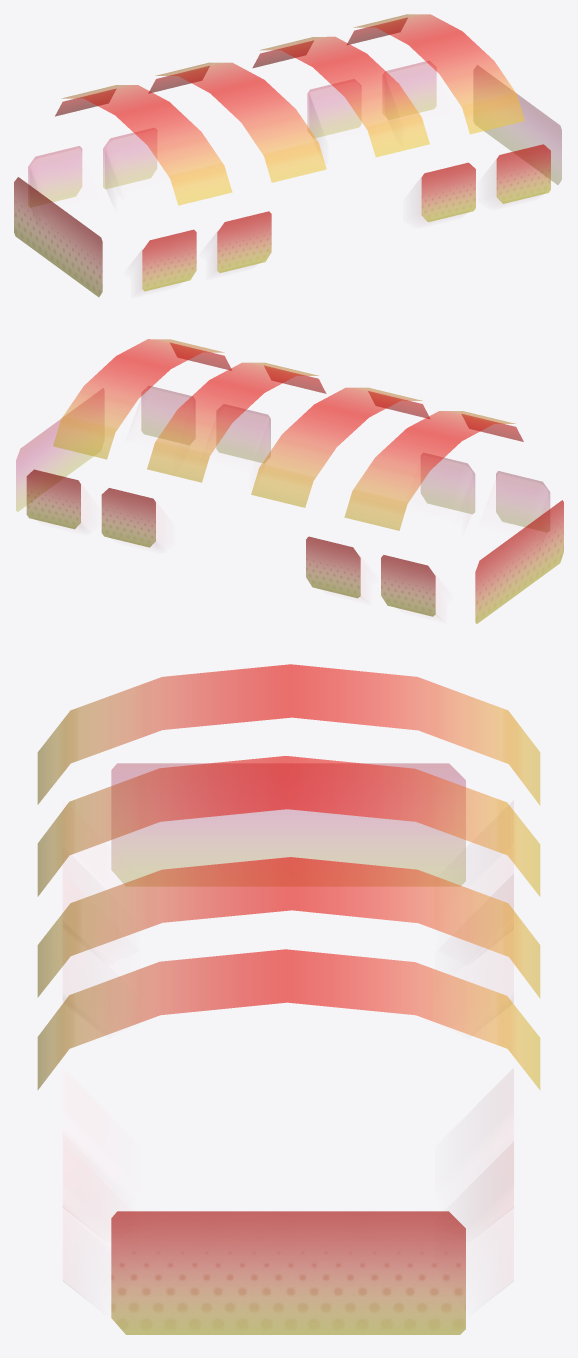
File: popart_tram_windows.glb
3 renders of one model, top to bottom at view 1: azimuth 30°, elevation 25°; view 2: azimuth 150°, elevation 25°; view 3: azimuth 270°, elevation 25°, orthographic. The views are drawn at different scales.
Visible parts, largest first — view 1: popart_tram_windows; view 2: popart_tram_windows; view 3: popart_tram_windows.
Boxes of the visible parts, box(x1,y1,x2,y2) form: popart_tram_windows: box(14, 14, 561, 296); popart_tram_windows: box(16, 339, 563, 623); popart_tram_windows: box(37, 664, 540, 1334).
Size of the model in its own units: 14.25 by 4.87 by 6.72.
1 material, 1 textured.
